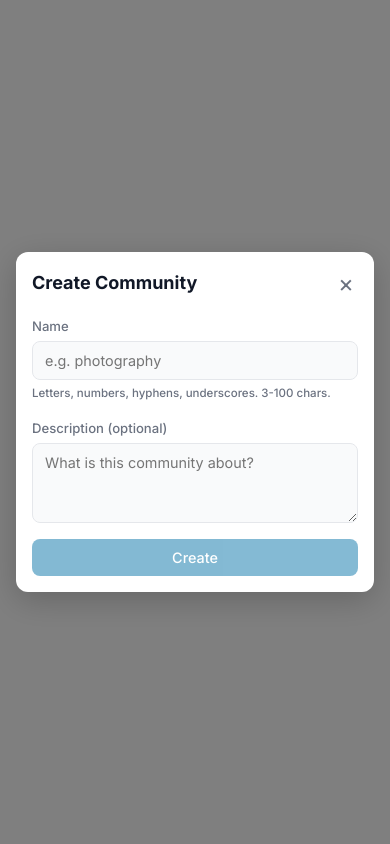
Test: CreateCommunityModal › shows generic error when no detail in response
The width and height of the screenshot is (390, 844).
Step 1. Type "newcommunity" into the field with placeholder "e.g. photography" → (195, 360), box [32,341,358,380]
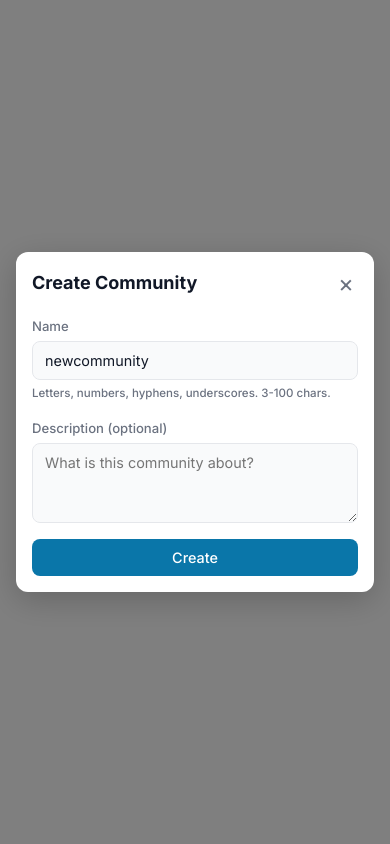
Step 2. Submit the form with placeholder "e.g. photography", box [32,316,358,576]
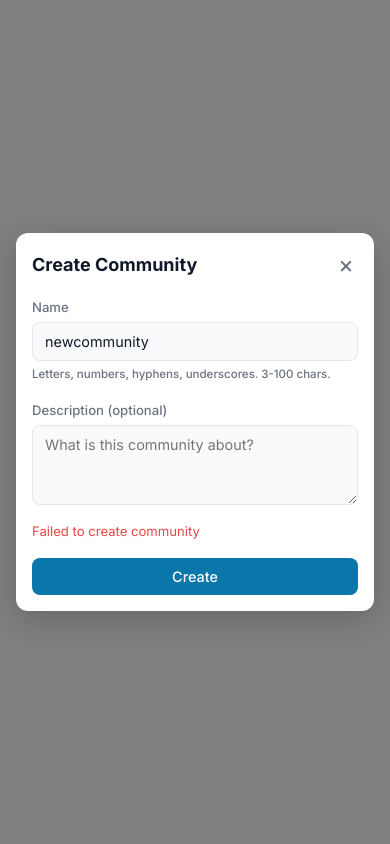
Expected: the message reads "Failed to create community", [32,523,200,539]
